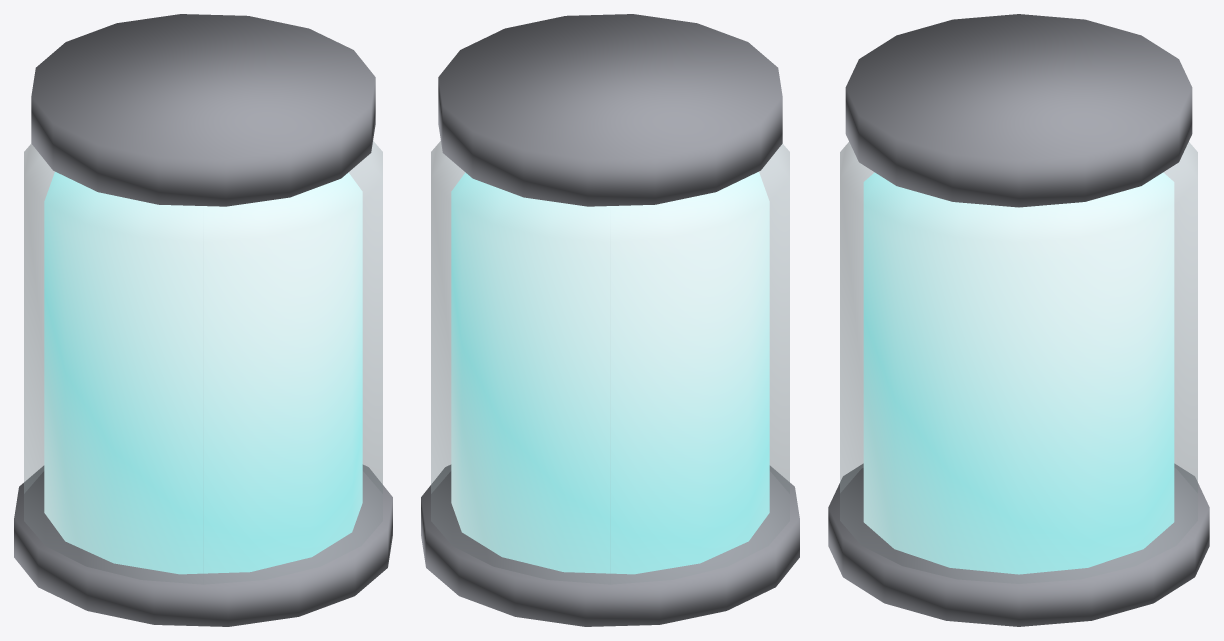
Rendered from specimen_jar_eyes.glb.
The picture shows the model from 3 angles, left to right: view 1: azimuth 30°, elevation 25°; view 2: azimuth 150°, elevation 25°; view 3: azimuth 270°, elevation 25°; orthographic projection.
Parts seen in each view (by area): view 1: GD_specimen_jar_eyes__m0, GD_specimen_jar_eyes__m1, GD_specimen_jar_eyes__m2; view 2: GD_specimen_jar_eyes__m0, GD_specimen_jar_eyes__m1, GD_specimen_jar_eyes__m2; view 3: GD_specimen_jar_eyes__m0, GD_specimen_jar_eyes__m1, GD_specimen_jar_eyes__m2.
Part boxes in pixels (x1,y1,x2,y2): GD_specimen_jar_eyes__m0: (24,141,382,584); GD_specimen_jar_eyes__m1: (44,172,362,574); GD_specimen_jar_eyes__m2: (14,14,392,626); GD_specimen_jar_eyes__m0: (431,141,789,584); GD_specimen_jar_eyes__m1: (451,172,769,574); GD_specimen_jar_eyes__m2: (421,14,799,626); GD_specimen_jar_eyes__m0: (840,142,1197,583); GD_specimen_jar_eyes__m1: (863,172,1174,574); GD_specimen_jar_eyes__m2: (828,14,1209,626).
Size of the model in its own units: 0.22 by 0.2925 by 0.22.
